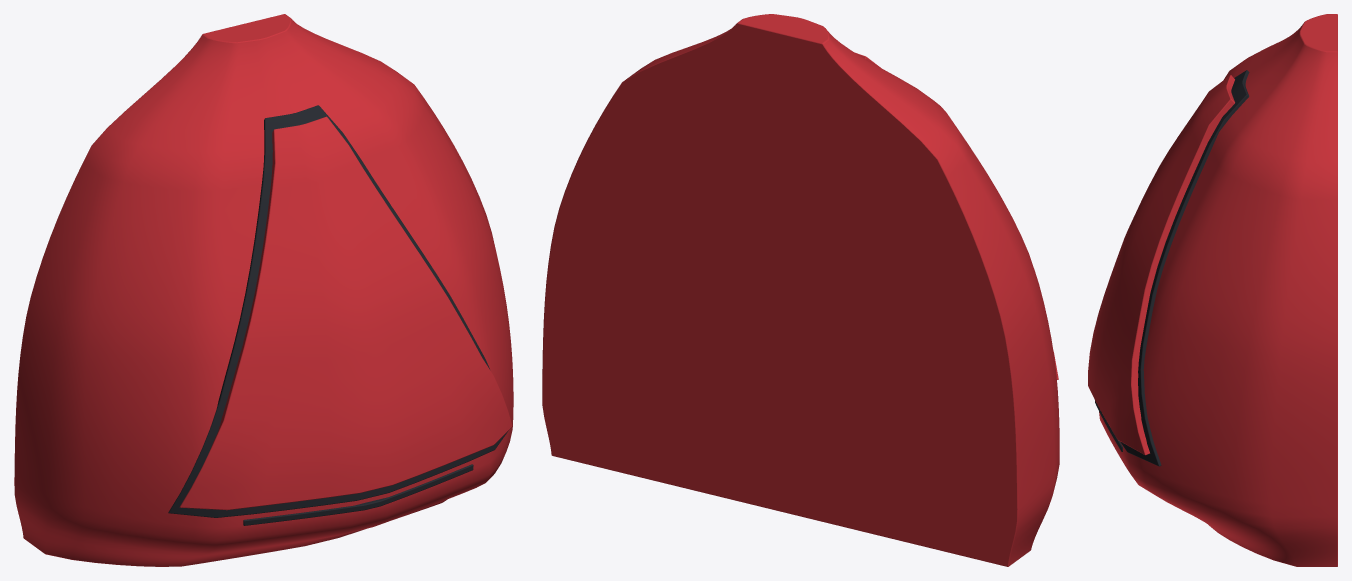
The model's file is FootFront_Set01_Ironclad.fbx.
3 renders of one model, left to right at view 1: azimuth 30°, elevation 25°; view 2: azimuth 150°, elevation 25°; view 3: azimuth 270°, elevation 25°, orthographic. The views are drawn at different scales.
Parts seen in each view (by area): view 1: FootFront_Set01_Ironclad; view 2: FootFront_Set01_Ironclad; view 3: FootFront_Set01_Ironclad.
Part boxes in pixels (bbox=[...]): FootFront_Set01_Ironclad: bbox=[14, 14, 513, 566]; FootFront_Set01_Ironclad: bbox=[542, 14, 1059, 566]; FootFront_Set01_Ironclad: bbox=[1088, 14, 1337, 566].
Bounding box in the file's own units: 0.4999 × 0.48 × 0.2507.
